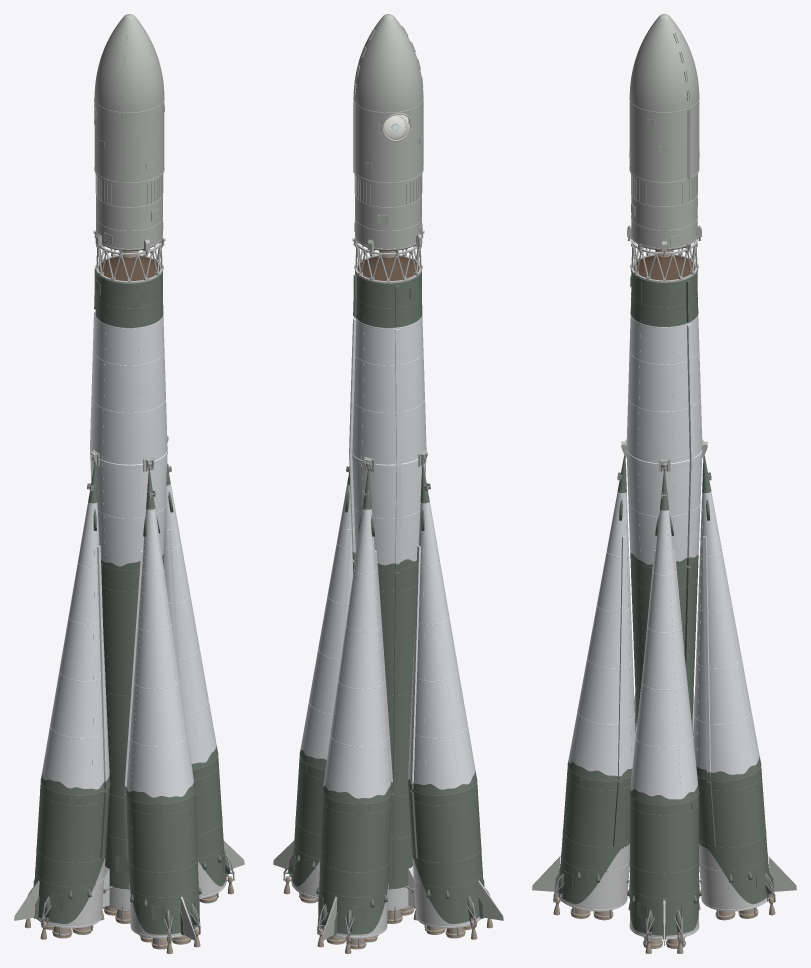
File: vehicle.glb
3 renders of one model, left to right at view 1: azimuth 30°, elevation 25°; view 2: azimuth 150°, elevation 25°; view 3: azimuth 270°, elevation 25°, orthographic.
Parts seen in each view (by area): view 1: Core_Frost, Booster_D_Frost, Booster_G_Frost, Core_Skin, Booster_D_Skin, Booster_G_Skin, Fairing_Right_Fittings, Booster_B_Frost, BlockE_Fittings, Fairing_Left_Fittings, Booster_B_Skin, Interstage_Lattice (+6 smaller); view 2: Core_Frost, Booster_V_Frost, Booster_G_Frost, Core_Skin, Fairing_Left_Fittings, Booster_V_Skin, Booster_G_Skin, Booster_B_Frost, BlockE_Fittings, Booster_B_Skin, Core_Fittings, Interstage_Lattice (+6 smaller); view 3: Core_Frost, Booster_B_Frost, Booster_D_Frost, Booster_V_Frost, Booster_B_Skin, Fairing_Right_Fittings, Booster_V_Skin, Booster_D_Skin, Core_Skin, BlockE_Fittings, Booster_D_Shield, Booster_V_Shield (+6 smaller).
Boxes of the visible parts, x1,y1,x2,y2 form: Core_Frost: [90, 310, 167, 566]; Booster_D_Frost: [124, 508, 193, 797]; Booster_G_Frost: [42, 502, 109, 789]; Core_Skin: [95, 269, 163, 889]; Booster_D_Skin: [126, 470, 199, 934]; Booster_G_Skin: [34, 464, 110, 923]; Fairing_Right_Fittings: [120, 14, 164, 184]; Booster_B_Frost: [163, 484, 216, 763]; BlockE_Fittings: [95, 174, 163, 250]; Fairing_Left_Fittings: [94, 14, 129, 184]; Booster_B_Skin: [166, 463, 225, 886]; Interstage_Lattice: [95, 241, 163, 283]; Core_Frost: [349, 313, 426, 565]; Booster_V_Frost: [323, 508, 392, 798]; Booster_G_Frost: [408, 502, 475, 789]; Core_Skin: [354, 269, 422, 889]; Fairing_Left_Fittings: [354, 14, 423, 184]; Booster_V_Skin: [318, 470, 391, 934]; Booster_G_Skin: [407, 464, 483, 923]; Booster_B_Frost: [300, 484, 353, 759]; BlockE_Fittings: [354, 174, 422, 250]; Booster_B_Skin: [292, 472, 349, 886]; Core_Fittings: [352, 274, 418, 885]; Interstage_Lattice: [354, 241, 422, 283]; Core_Frost: [626, 313, 702, 564]; Booster_B_Frost: [630, 510, 697, 799]; Booster_D_Frost: [568, 491, 635, 776]; Booster_V_Frost: [693, 491, 759, 774]; Booster_B_Skin: [629, 471, 699, 935]; Fairing_Right_Fittings: [629, 14, 689, 184]; Booster_V_Skin: [696, 455, 769, 904]; Booster_D_Skin: [559, 455, 632, 904]; Core_Skin: [630, 268, 698, 726]; BlockE_Fittings: [631, 174, 697, 249]; Booster_D_Shield: [558, 843, 629, 911]; Booster_V_Shield: [699, 843, 770, 911].
Bounding box in the file's own units: 10.27 × 38.41 × 10.27.
